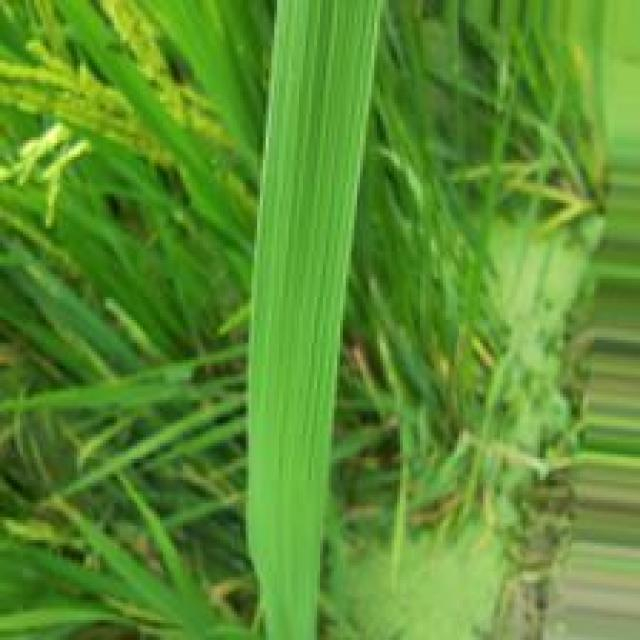HealthyLeaf: (250, 1, 377, 482)
